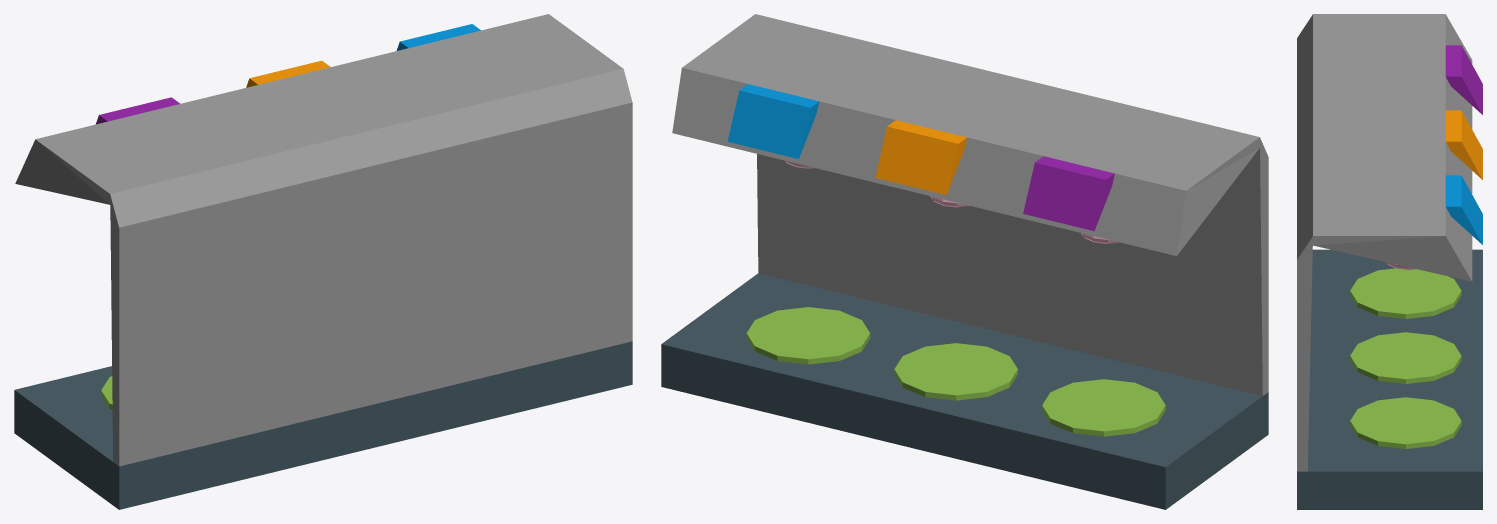
Rendered from sodafountain.obj.
3 renders of one model, left to right at view 1: azimuth 30°, elevation 25°; view 2: azimuth 150°, elevation 25°; view 3: azimuth 270°, elevation 25°, orthographic. The views are drawn at different scales.
Parts seen in each view (by area): view 1: group1138234482, group372621265, group509553979, group3998111, group1839662580, group985968615; view 2: group1138234482, group372621265, group509553979, group536631065, group534719747, group338420945, group985968615, group1839662580, group3998111; view 3: group372621265, group509553979, group1138234482, group338420945, group534719747, group536631065, group3998111, group985968615, group1839662580.
Boxes of the visible parts, x1,y1,x2,y2 form: group1138234482: [110, 69, 632, 466]; group372621265: [15, 14, 623, 204]; group509553979: [14, 341, 632, 509]; group3998111: [396, 24, 480, 50]; group1839662580: [95, 97, 180, 124]; group985968615: [246, 60, 330, 87]; group1138234482: [757, 138, 1268, 396]; group372621265: [672, 14, 1259, 256]; group509553979: [661, 273, 1268, 509]; group536631065: [1042, 379, 1165, 436]; group534719747: [746, 307, 870, 364]; group338420945: [894, 343, 1017, 400]; group985968615: [875, 120, 966, 194]; group1839662580: [1023, 156, 1114, 230]; group3998111: [727, 84, 819, 158]; group372621265: [1313, 14, 1472, 281]; group509553979: [1297, 249, 1482, 509]; group1138234482: [1297, 14, 1312, 471]; group338420945: [1350, 332, 1461, 383]; group534719747: [1350, 397, 1461, 448]; group536631065: [1350, 268, 1461, 318]; group3998111: [1445, 175, 1482, 244]; group985968615: [1445, 110, 1482, 179]; group1839662580: [1445, 45, 1482, 114].
Bounding box in the file's own units: 1 × 0.57 × 0.35.
